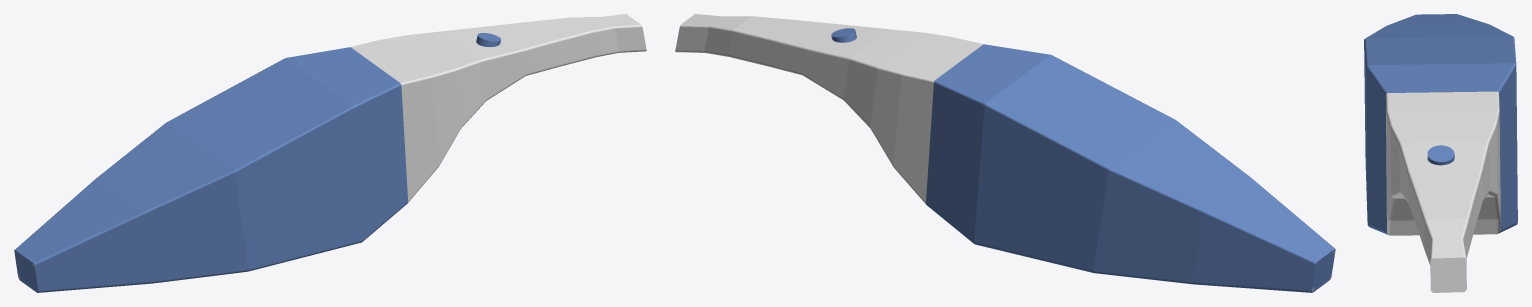
The model's file is Vaccum.fbx.
3 renders of one model, left to right at view 1: azimuth 30°, elevation 25°; view 2: azimuth 150°, elevation 25°; view 3: azimuth 270°, elevation 25°, orthographic. The views are drawn at different scales.
Visible parts, largest first — view 1: Cube; view 2: Cube; view 3: Cube, Cylinder.
Boxes of the visible parts, x1,y1,x2,y2 form: Cube: [14, 14, 646, 292]; Cube: [675, 14, 1335, 292]; Cube: [1364, 14, 1517, 292]; Cylinder: [1427, 145, 1454, 165].
Bounding box in the file's own units: 798 × 180 × 152.
